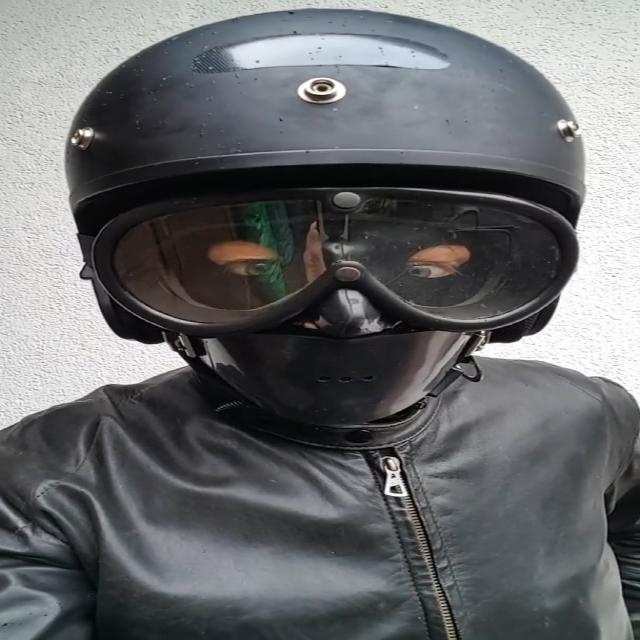Helmet_Wearer: (54, 0, 606, 483)
Jacket_Wearer: (5, 319, 640, 640)
Person: (0, 16, 640, 640)
